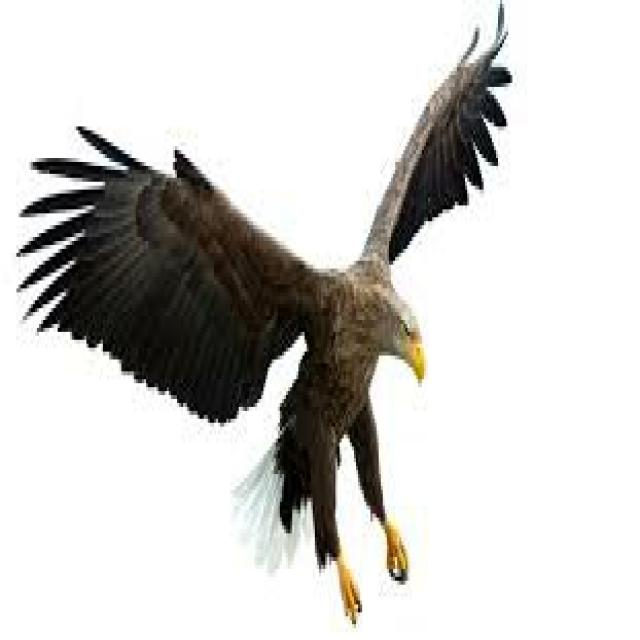eagle: (19, 0, 510, 620)
